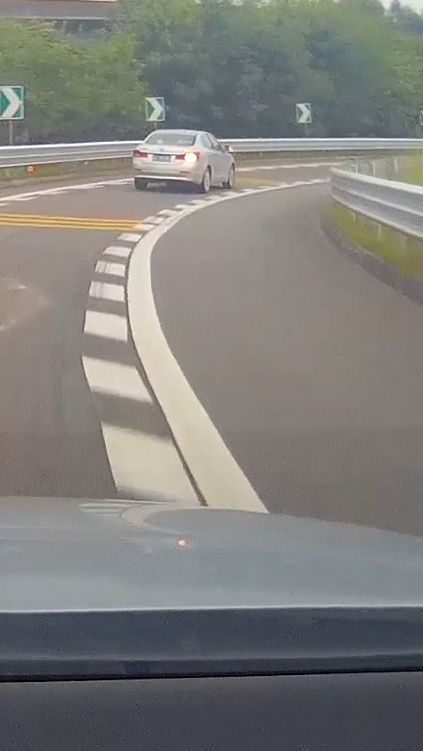L_light: (133, 149, 148, 158)
R_light: (175, 152, 200, 160)
T_light: (169, 133, 179, 136)
day-right: (131, 129, 202, 194)
